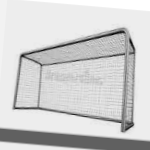goals: (12, 27, 136, 133)
